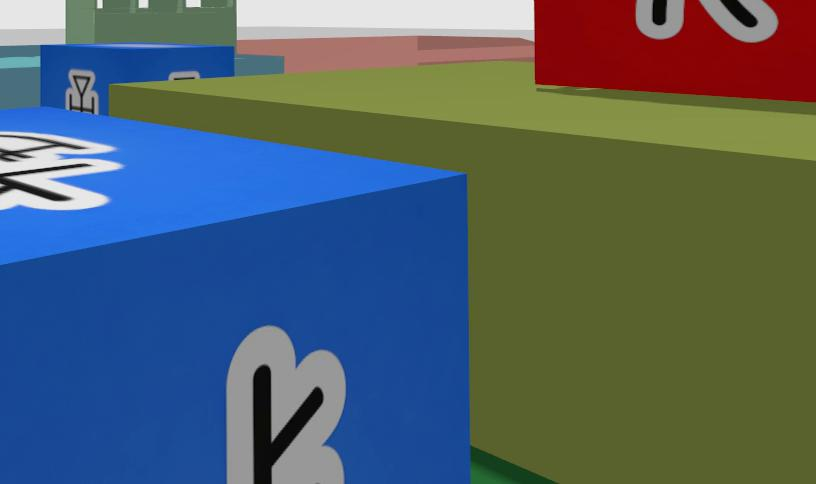KFS_FAKE: (535, 0, 815, 103), (696, 0, 778, 42), (635, 0, 684, 39)
KFS_REAL: (0, 106, 468, 483), (228, 326, 345, 483), (40, 43, 234, 114), (0, 132, 123, 210), (65, 70, 98, 112)
